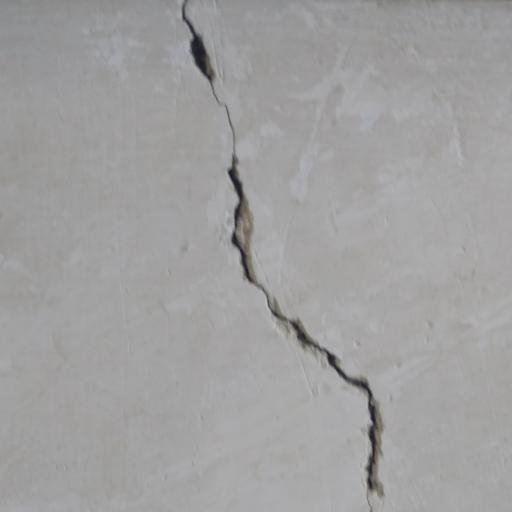major_crack: (175, 0, 394, 512)
